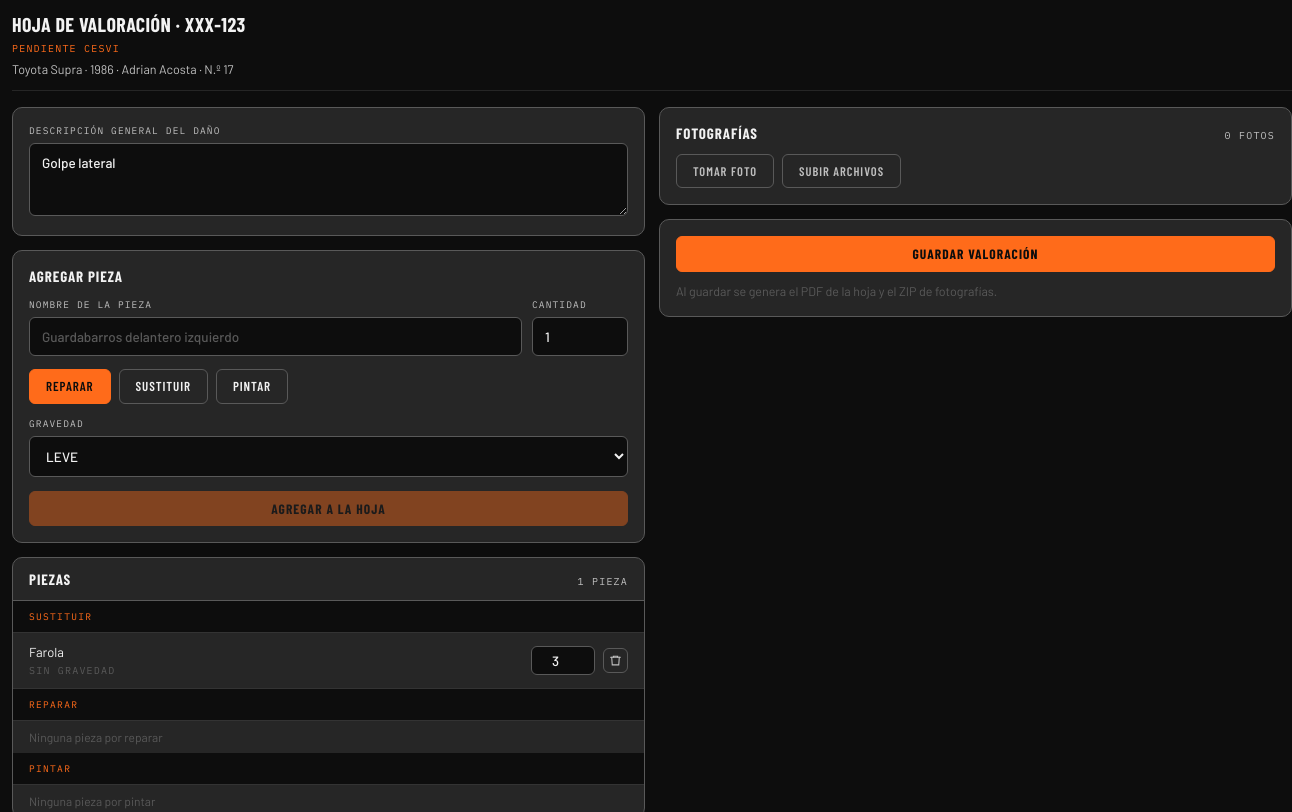
Test: HojaValoracion · cantidad de piezas › no deja guardar ni agregar con una cantidad inválida
Step 1. Replace the text in the number field named "Cantidad de Farola" with "0" → (563, 661), box top-left (531, 646), bottom-right (595, 676)
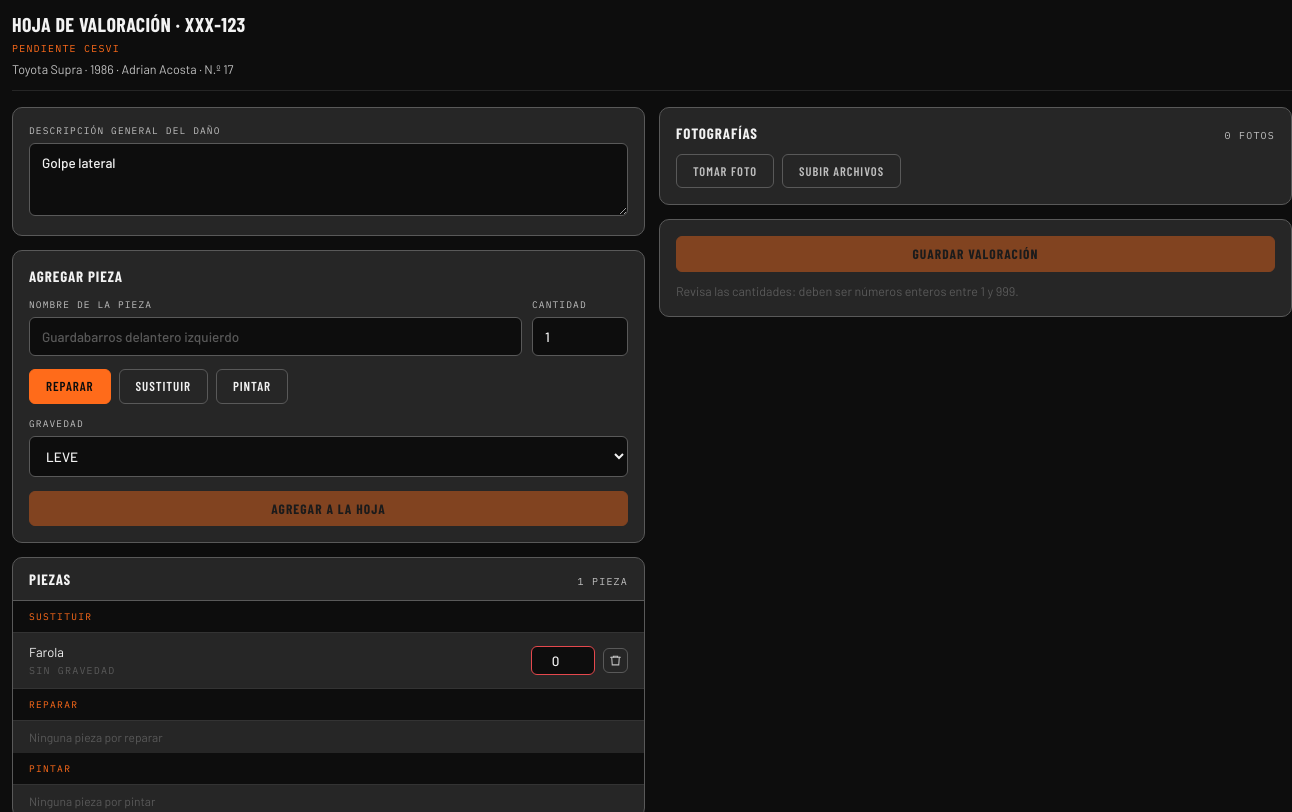
Check: the button "GUARDAR VALORACIÓN" is disabled, box top-left (676, 236), bottom-right (1275, 272)
Check: the text "Revisa las cantidades" is shown, box top-left (676, 283), bottom-right (1019, 299)
Step 2. Type "Rin" into the field labelled "NOMBRE DE LA PIEZA" → (276, 336), box top-left (29, 317), bottom-right (522, 356)
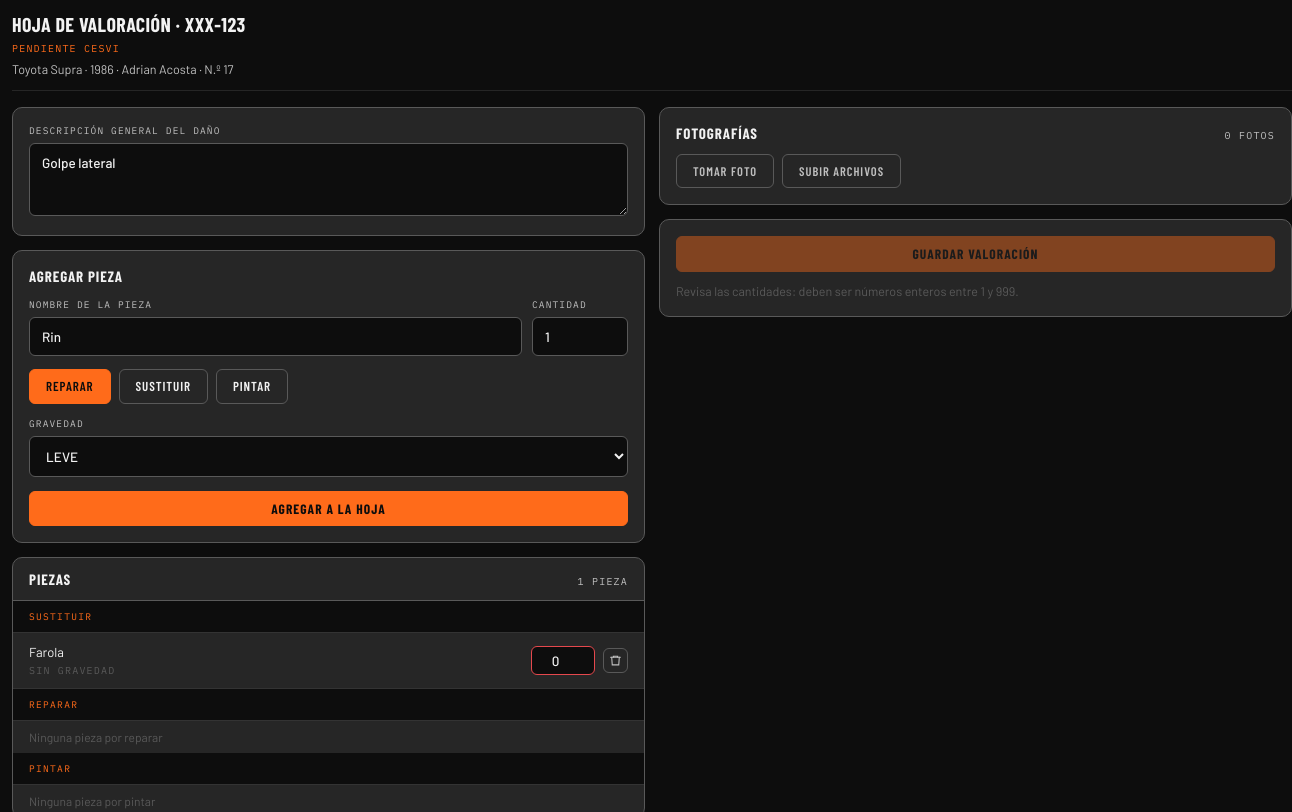
Step 3. Replace the text in the number field labelled "CANTIDAD" with "1000" → (580, 336), box top-left (532, 317), bottom-right (628, 356)
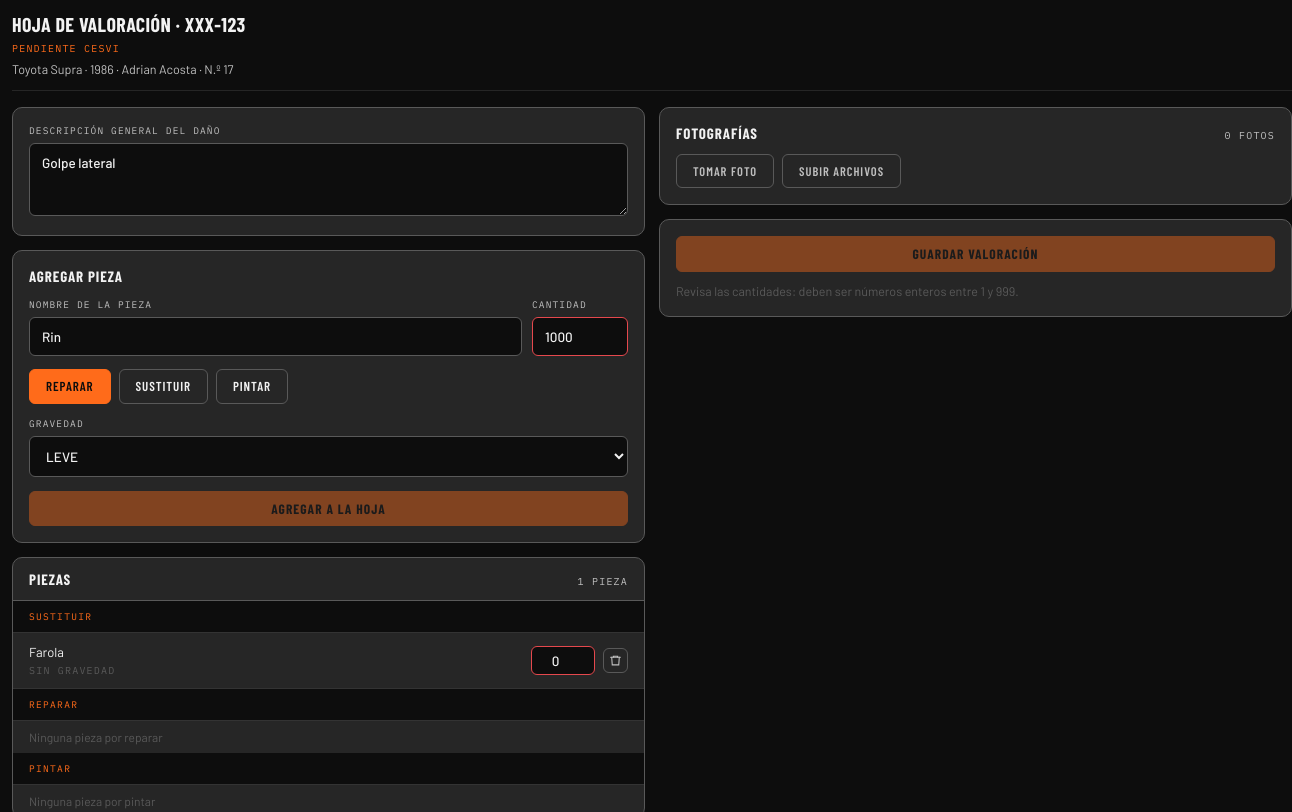
Check: the button "AGREGAR A LA HOJA" is disabled, box top-left (29, 491), bottom-right (628, 526)
